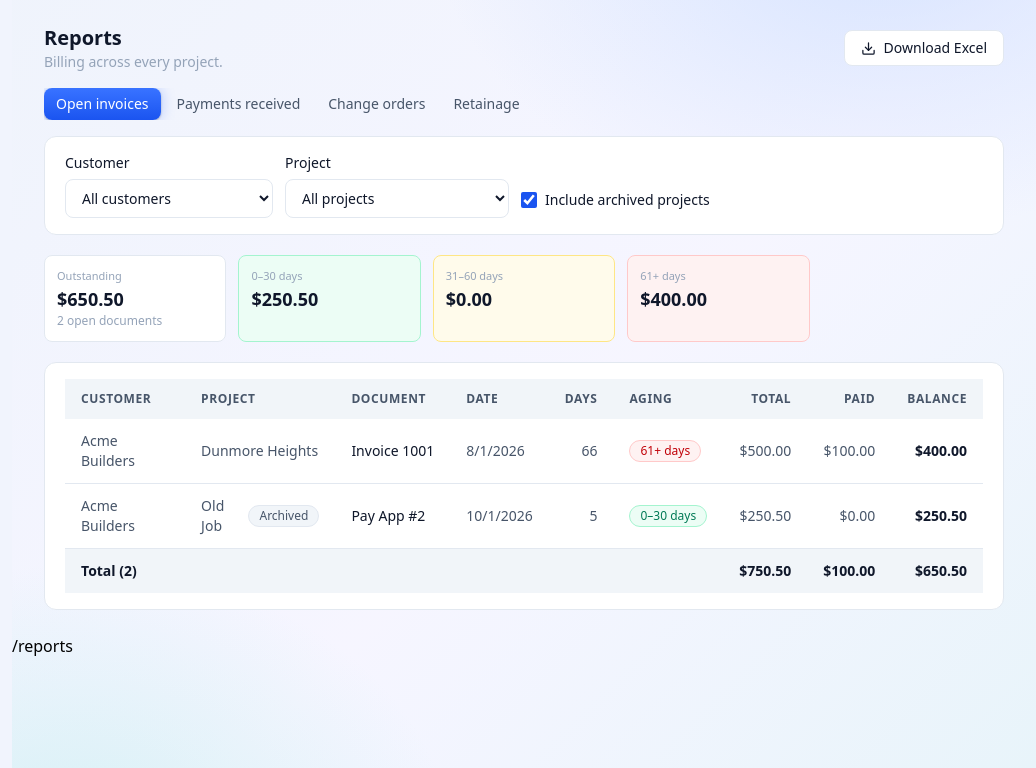
Scenario: ReportsPage › switching tabs keeps the tab in the address and loads that report
Expected: the table with test id "report-table" is shown, x1=65 y1=378 x2=983 y2=592
Click the button with test id "report-tab-retainage" at [486, 104], box x1=441 y1=88 x2=532 y2=120
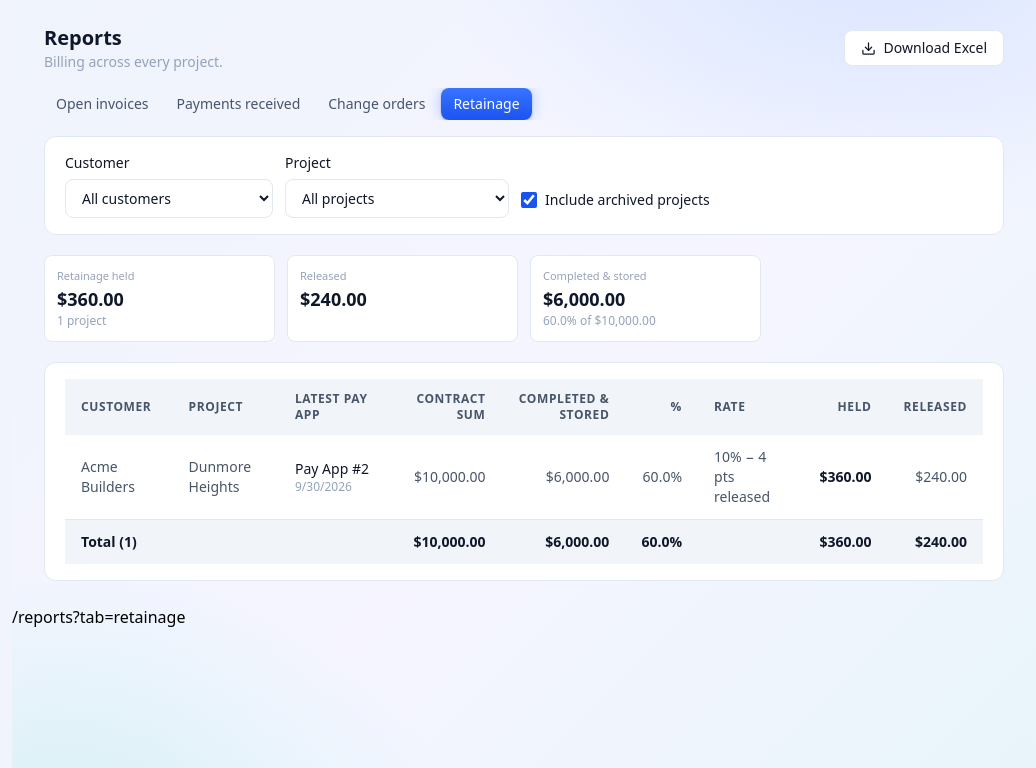
Expected: the link "Pay App #2" is shown, x1=295 y1=458 x2=369 y2=478
Expected: the text with test id "location" reads "/reports?tab=retainage", x1=12 y1=606 x2=186 y2=628
